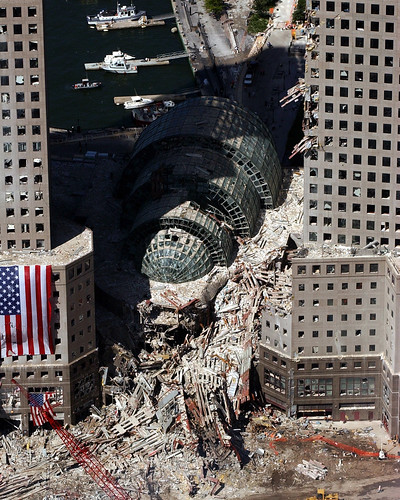building: (80, 65, 296, 296), (295, 1, 400, 421), (1, 1, 104, 421)
debris: (67, 261, 271, 500)
